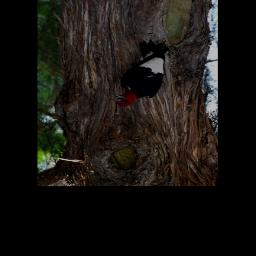Woodpecker: (108, 40, 174, 109)
